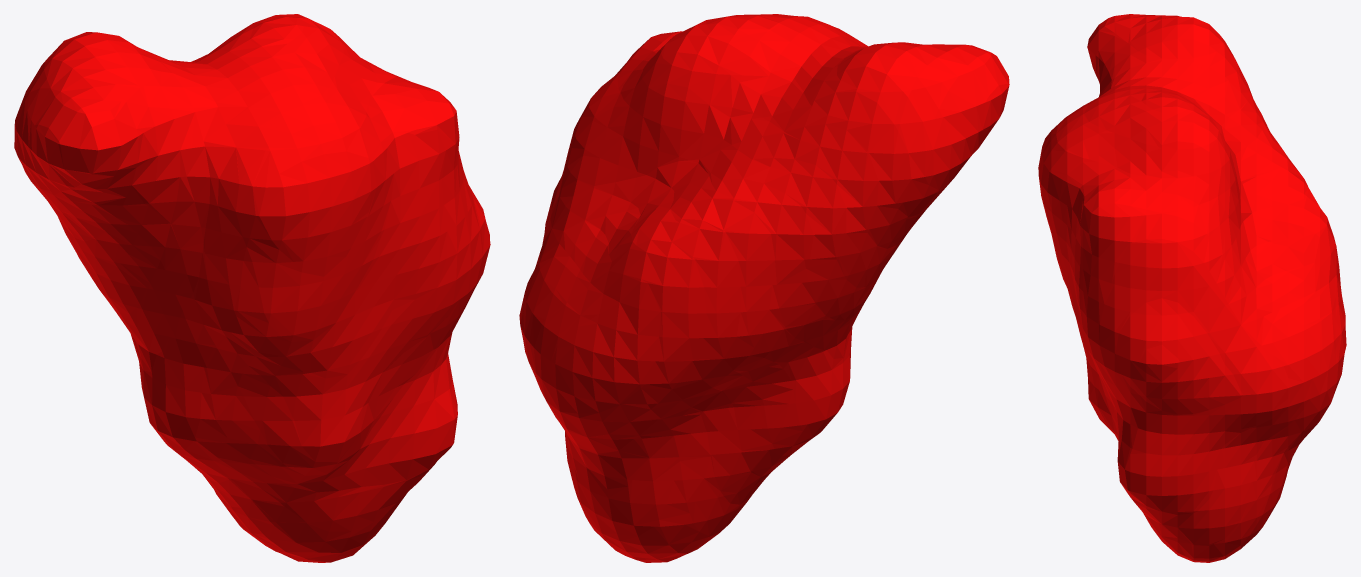
The model's file is yibT_coarse.dae.
The picture shows the model from 3 angles, left to right: view 1: azimuth 30°, elevation 25°; view 2: azimuth 150°, elevation 25°; view 3: azimuth 270°, elevation 25°; orthographic projection. The views are drawn at different scales.
Visible parts, largest first — view 1: yibT; view 2: yibT; view 3: yibT.
Boxes of the visible parts, box(x1,y1,x2,y2) form: yibT: box(14, 14, 490, 562); yibT: box(519, 14, 1009, 562); yibT: box(1038, 14, 1346, 562).
Bounding box in the file's own units: 35.29 × 43.24 × 26.96.
